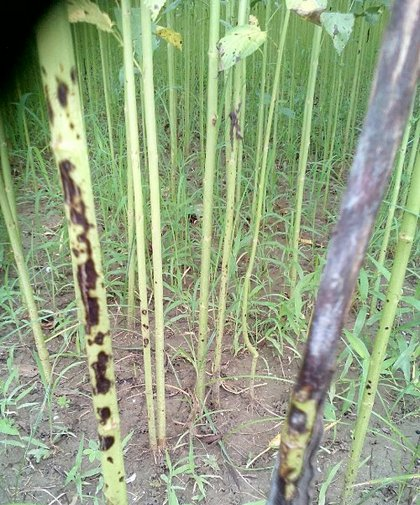damaged_jute: (163, 30, 342, 330), (29, 35, 139, 496)
